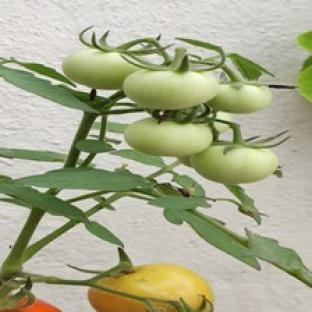Tomato: (99, 264, 214, 309), (123, 70, 218, 110), (124, 117, 213, 157), (191, 145, 278, 183), (63, 48, 139, 89), (209, 84, 271, 114), (0, 300, 61, 311), (214, 112, 232, 133)
